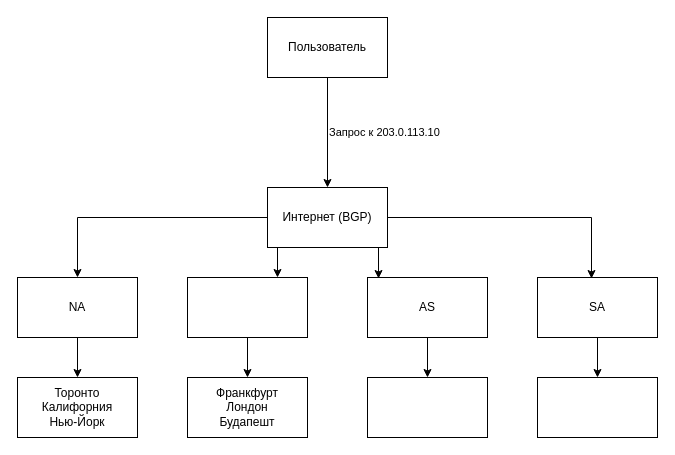
This 675x455 diagram has some shape labels left out. The shapes that lost their labels are listed below. From the top down, each one's box as (x1, y1, x2, y2) in pixels, then its label:
(186, 276, 308, 338): EU
(366, 376, 488, 438): Сингапур Дели Токио
(536, 376, 658, 438): Сан-Паулу Буэнос-Айрес
